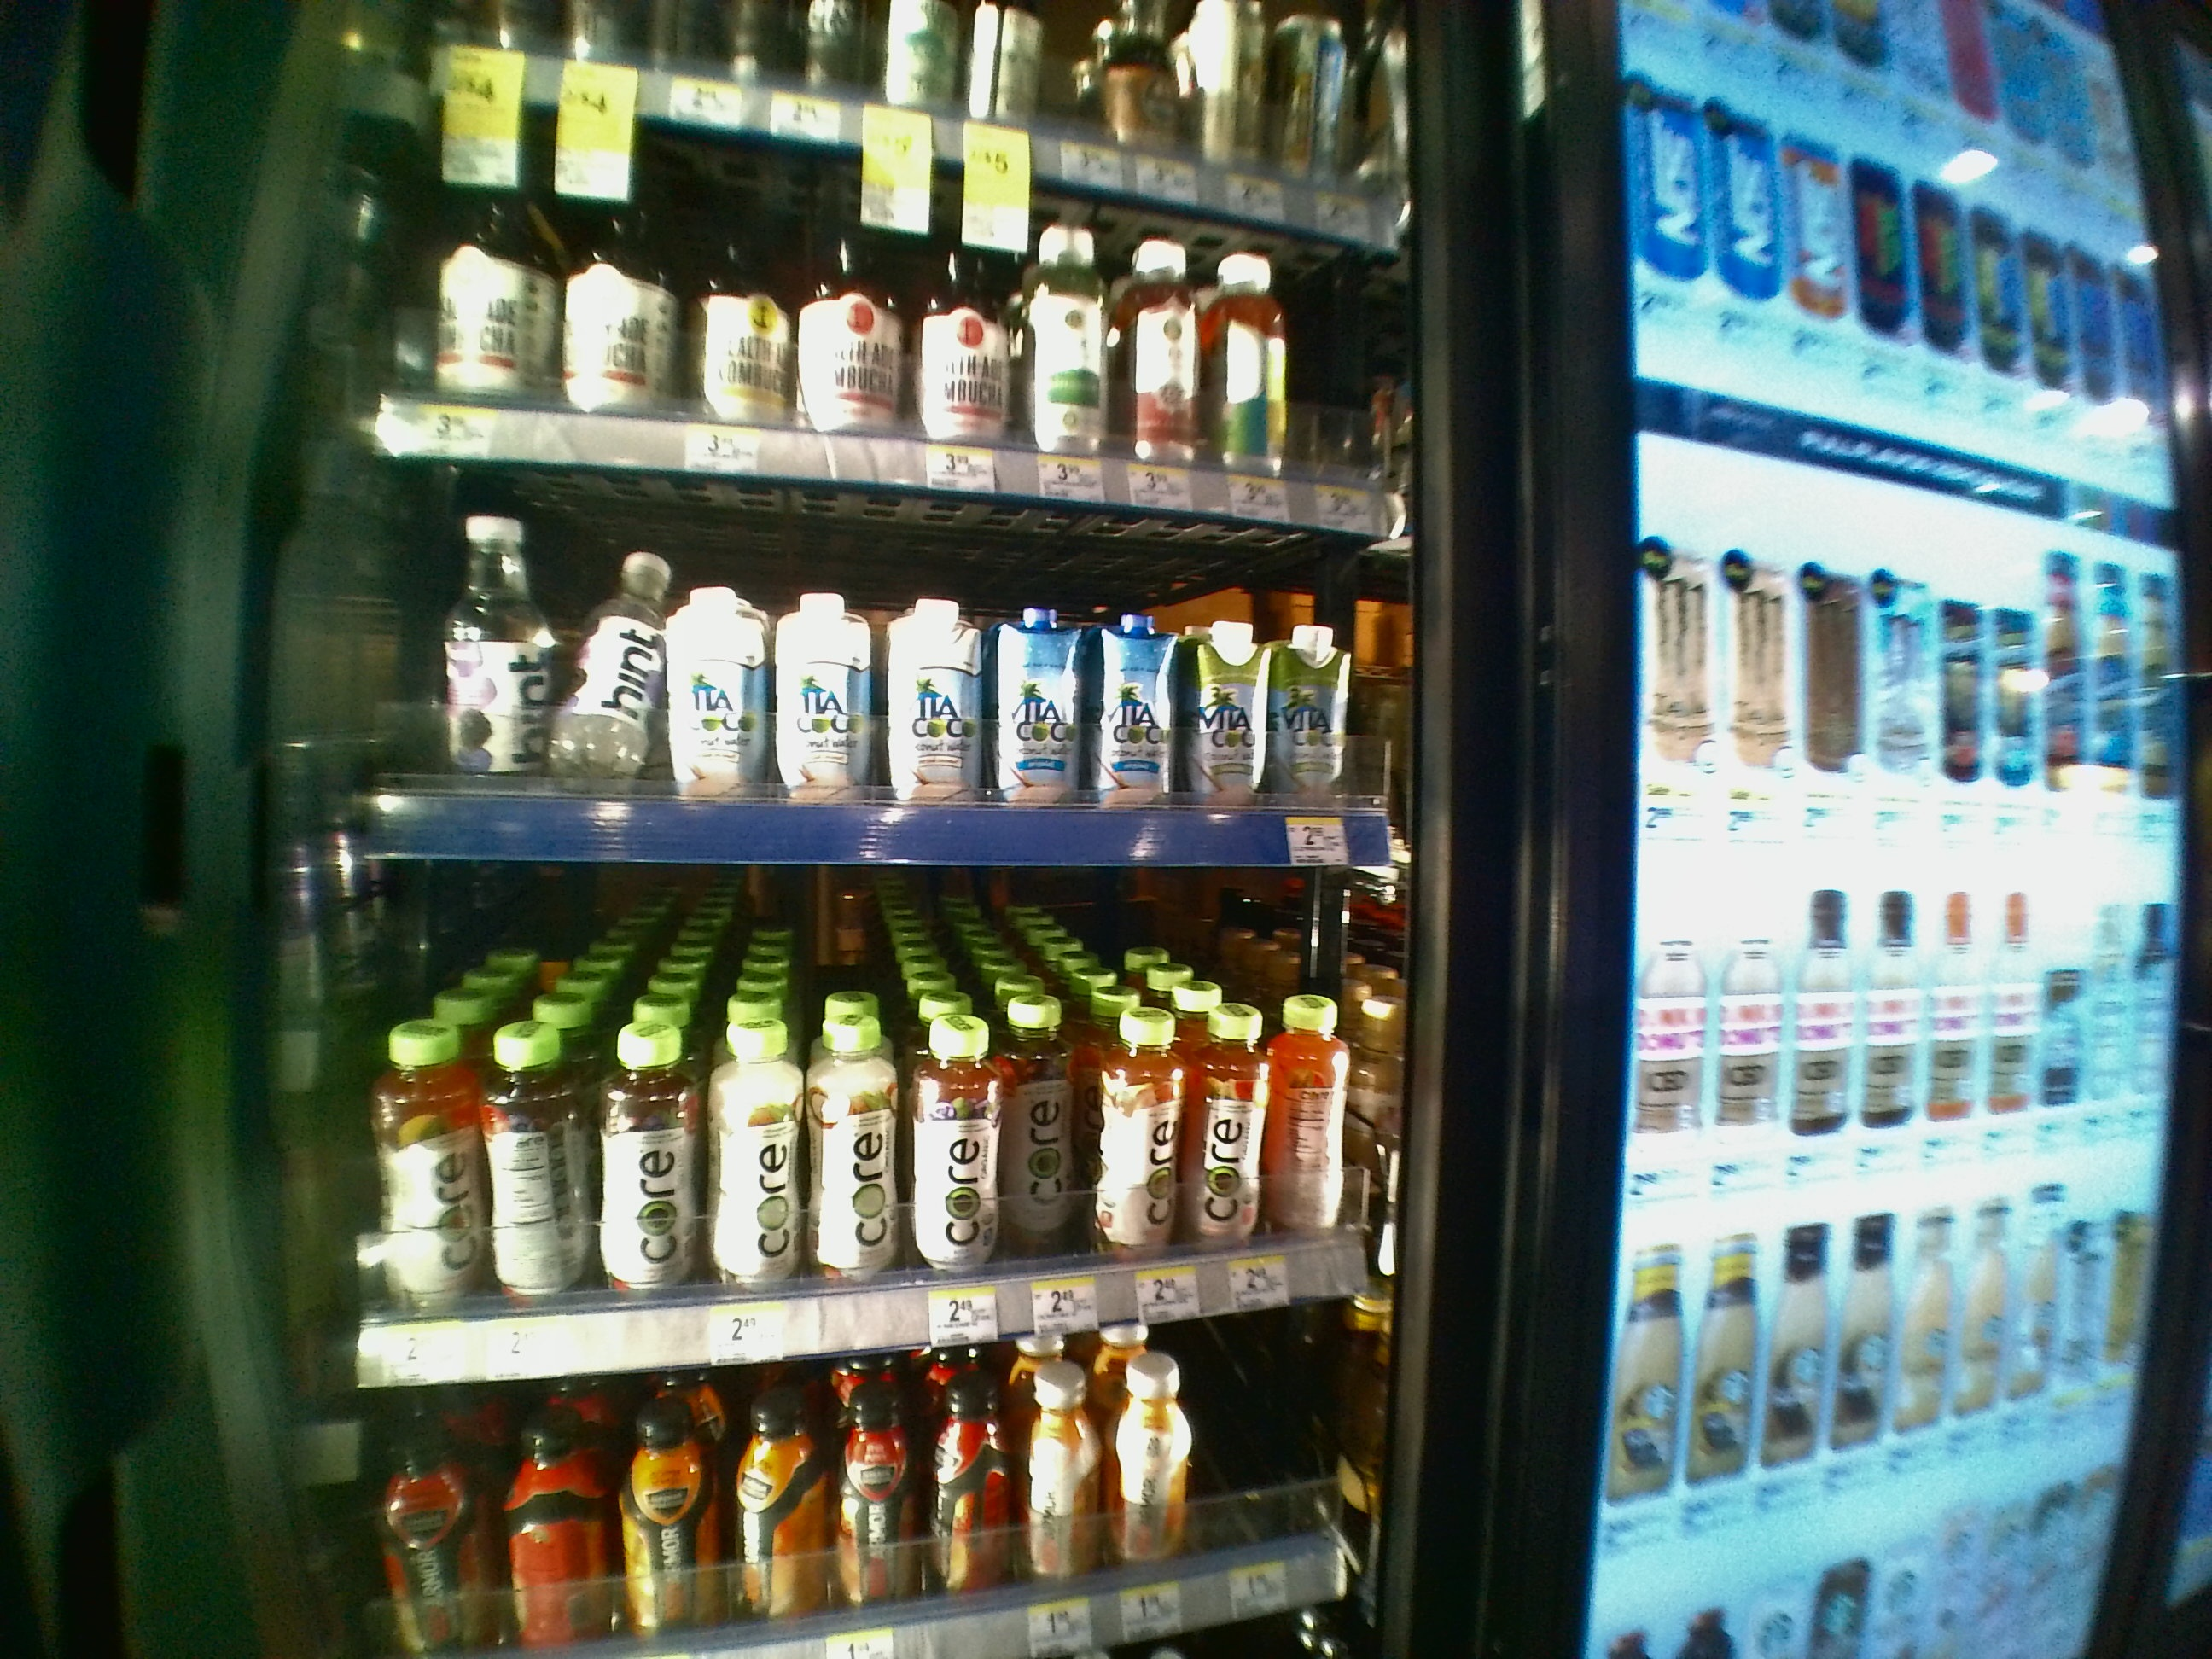shelf: (320, 477, 1413, 857)
